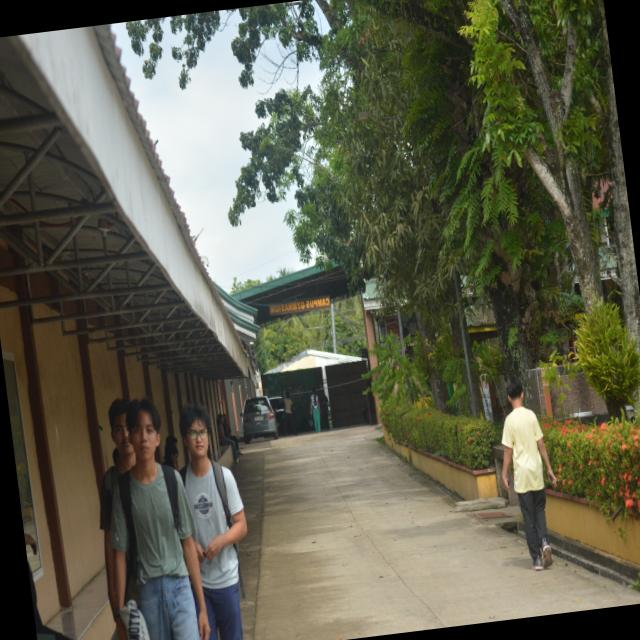person: (110, 398, 209, 639), (179, 404, 246, 639), (501, 377, 555, 570), (99, 399, 134, 613), (30, 583, 71, 639), (283, 392, 296, 434), (163, 436, 178, 470), (309, 388, 320, 433)
